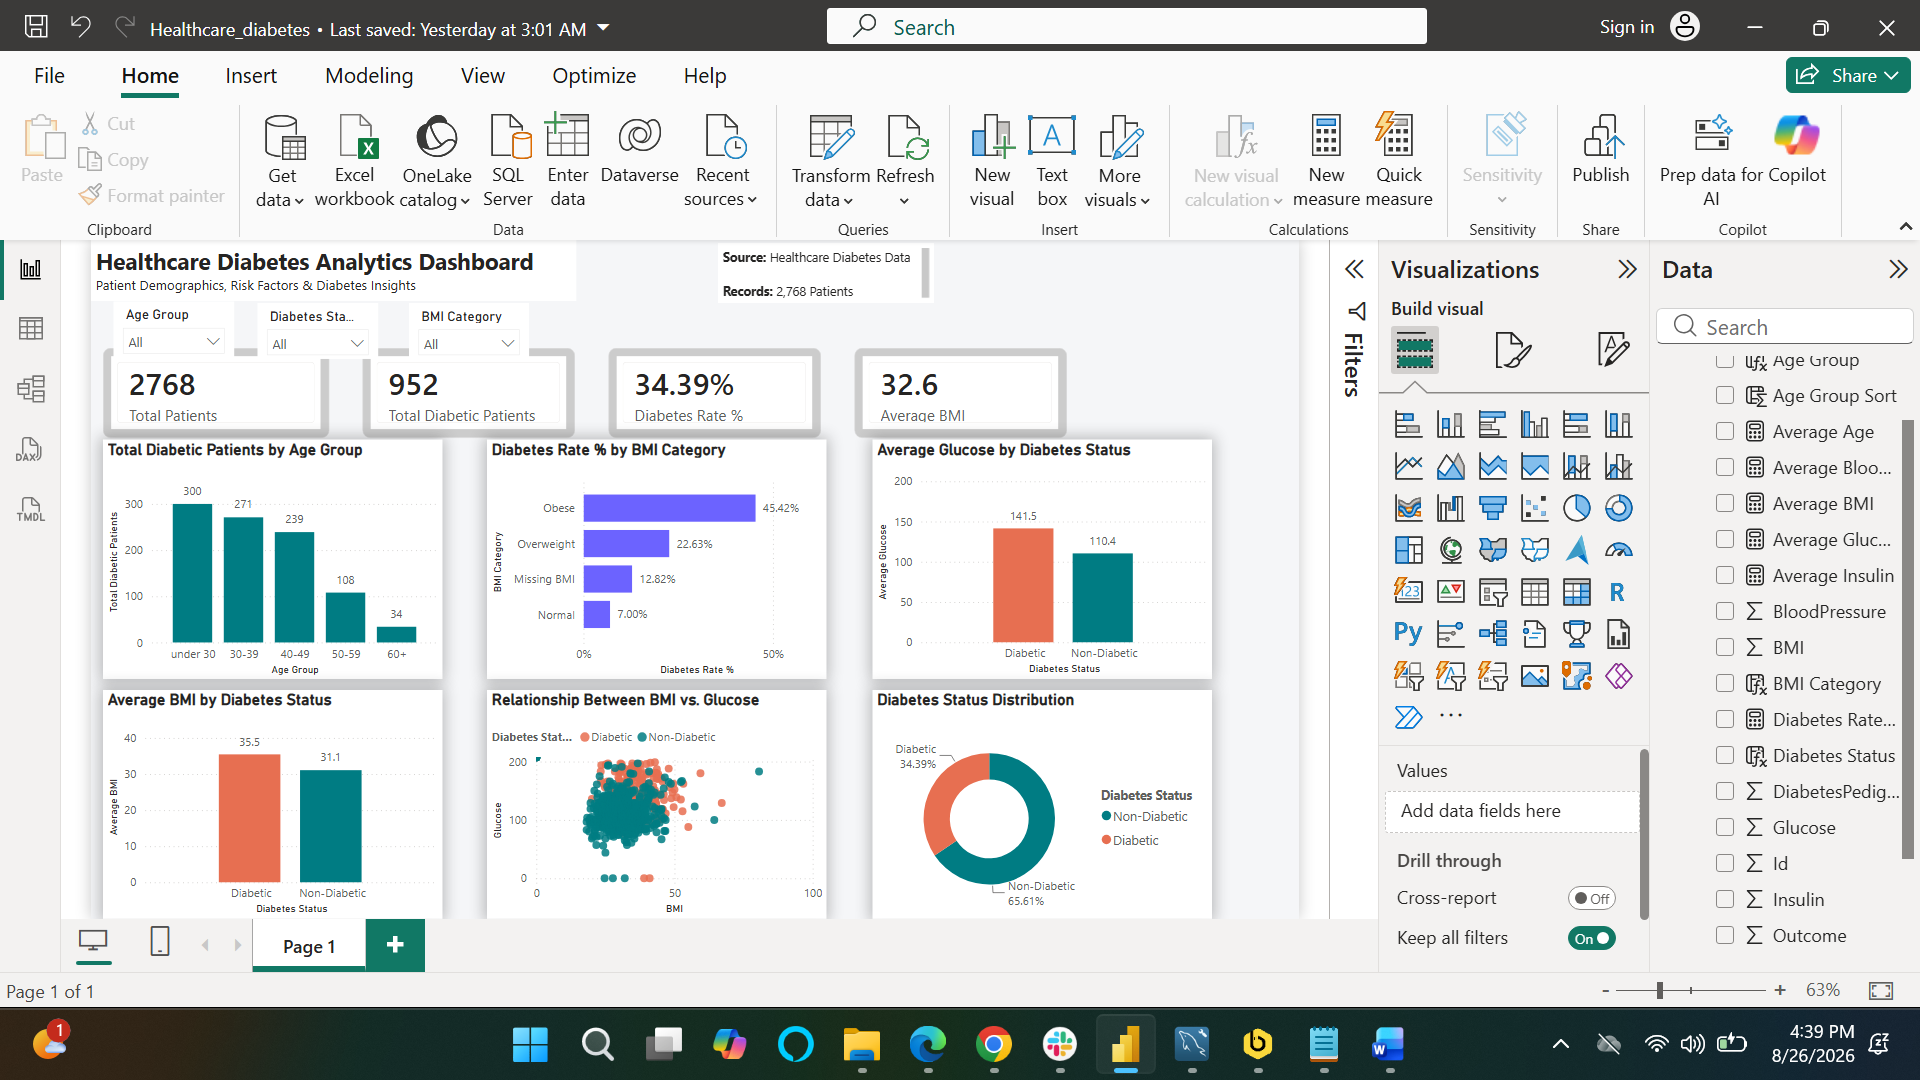

What the dashboard file says about the page in this screenshot:
{"tool":"powerbi","page":{"name":"Page 1","canvas":[1280,720],"ordinal":0},"visuals":[{"type":"cardVisual","fields":{"Data":["Healthcare-Diabetes.Total Patients"]},"box":[12.7,114.5,240.2,95.4],"z":0},{"type":"cardVisual","fields":{"Data":["Healthcare-Diabetes.Total Diabetic Patients"]},"box":[288.6,114.5,225,95.5],"z":1000},{"type":"cardVisual","fields":{"Data":["Healthcare-Diabetes.Diabetes Rate %"]},"box":[549.3,114.5,225,95.5],"z":2000},{"type":"cardVisual","fields":{"Data":["Healthcare-Diabetes.Average BMI"]},"box":[810,114.5,225,95.5],"z":3000},{"type":"clusteredColumnChart","fields":{"Category":["Healthcare-Diabetes.Age Group"],"Y":["Healthcare-Diabetes.Total Diabetic Patients"]},"box":[13,212.1,360,254.2],"z":4000},{"type":"clusteredBarChart","fields":{"Category":["Healthcare-Diabetes.BMI Category"],"Y":["Healthcare-Diabetes.Diabetes Rate %"]},"box":[420.5,212.1,360,254.2],"z":5000},{"type":"clusteredColumnChart","fields":{"Category":["Healthcare-Diabetes.Diabetes Status"],"Y":["Healthcare-Diabetes.Average Glucose"]},"box":[828,212.1,360,254],"z":6000},{"type":"clusteredColumnChart","fields":{"Y":["Healthcare-Diabetes.Average BMI"],"Category":["Healthcare-Diabetes.Diabetes Status"]},"box":[12,477.1,360,242.9],"z":7000},{"type":"scatterChart","title":"Relationship Between BMI vs. Glucose ","fields":{"X":["Healthcare-Diabetes.BMI"],"Y":["Healthcare-Diabetes.Glucose"],"Series":["Healthcare-Diabetes.Diabetes Status"]},"box":[420,477.1,360,242.9],"z":8000},{"type":"donutChart","title":"Diabetes Status Distribution","fields":{"Category":["Healthcare-Diabetes.Diabetes Status"],"Y":["Healthcare-Diabetes.Total Patients"]},"box":[828,477.1,360,242.9],"z":9000},{"type":"slicer","fields":{"Values":["Healthcare-Diabetes.Age Group"]},"box":[23.9,65.2,127.9,59.9],"z":10000},{"type":"slicer","fields":{"Values":["Healthcare-Diabetes.BMI Category"]},"box":[337.2,66.8,127,59.9],"z":11000},{"type":"slicer","fields":{"Values":["Healthcare-Diabetes.Diabetes Status"]},"box":[176.6,66.8,127.9,59],"z":12000},{"type":"textbox","box":[0,0,514.9,64.8],"z":13000},{"type":"textbox","box":[664.9,3.2,229,63.6],"z":14000}]}

Visuals, with their boxes on the page's 1280x720 design canvas (x1, y1, x2, y2). These are canvas units, not pixel positions in the 1920x1080 screenshot, which may show the page scaled, cropped or inside an application window:
cardVisual - Healthcare-Diabetes.Total Patients: detection(13, 114, 253, 210)
cardVisual - Healthcare-Diabetes.Total Diabetic Patients: detection(289, 114, 514, 210)
cardVisual - Healthcare-Diabetes.Diabetes Rate %: detection(549, 114, 774, 210)
cardVisual - Healthcare-Diabetes.Average BMI: detection(810, 114, 1035, 210)
clusteredColumnChart - Healthcare-Diabetes.Age Group x Healthcare-Diabetes.Total Diabetic Patients: detection(13, 212, 373, 466)
clusteredBarChart - Healthcare-Diabetes.BMI Category x Healthcare-Diabetes.Diabetes Rate %: detection(420, 212, 780, 466)
clusteredColumnChart - Healthcare-Diabetes.Diabetes Status x Healthcare-Diabetes.Average Glucose: detection(828, 212, 1188, 466)
clusteredColumnChart - Healthcare-Diabetes.Average BMI x Healthcare-Diabetes.Diabetes Status: detection(12, 477, 372, 720)
"Relationship Between BMI vs. Glucose " scatterChart: detection(420, 477, 780, 720)
"Diabetes Status Distribution" donutChart: detection(828, 477, 1188, 720)
slicer - Healthcare-Diabetes.Age Group: detection(24, 65, 152, 125)
slicer - Healthcare-Diabetes.BMI Category: detection(337, 67, 464, 127)
slicer - Healthcare-Diabetes.Diabetes Status: detection(177, 67, 304, 126)
textbox: detection(0, 0, 515, 65)
textbox: detection(665, 3, 894, 67)
